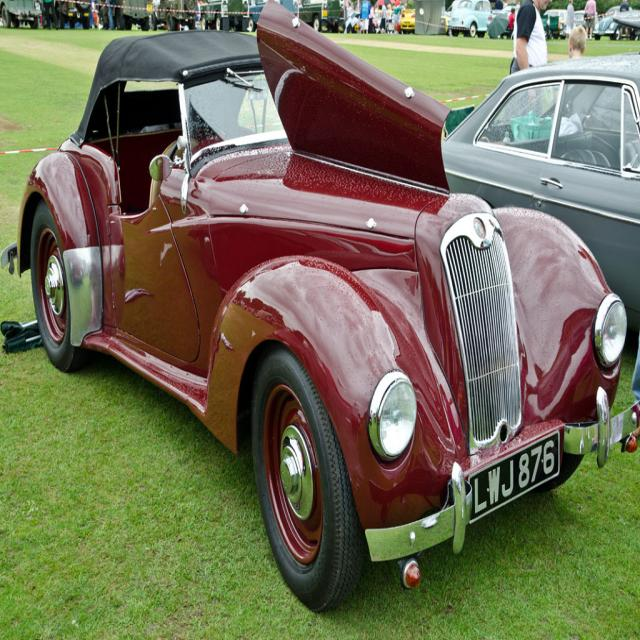car: (0, 0, 638, 616)
